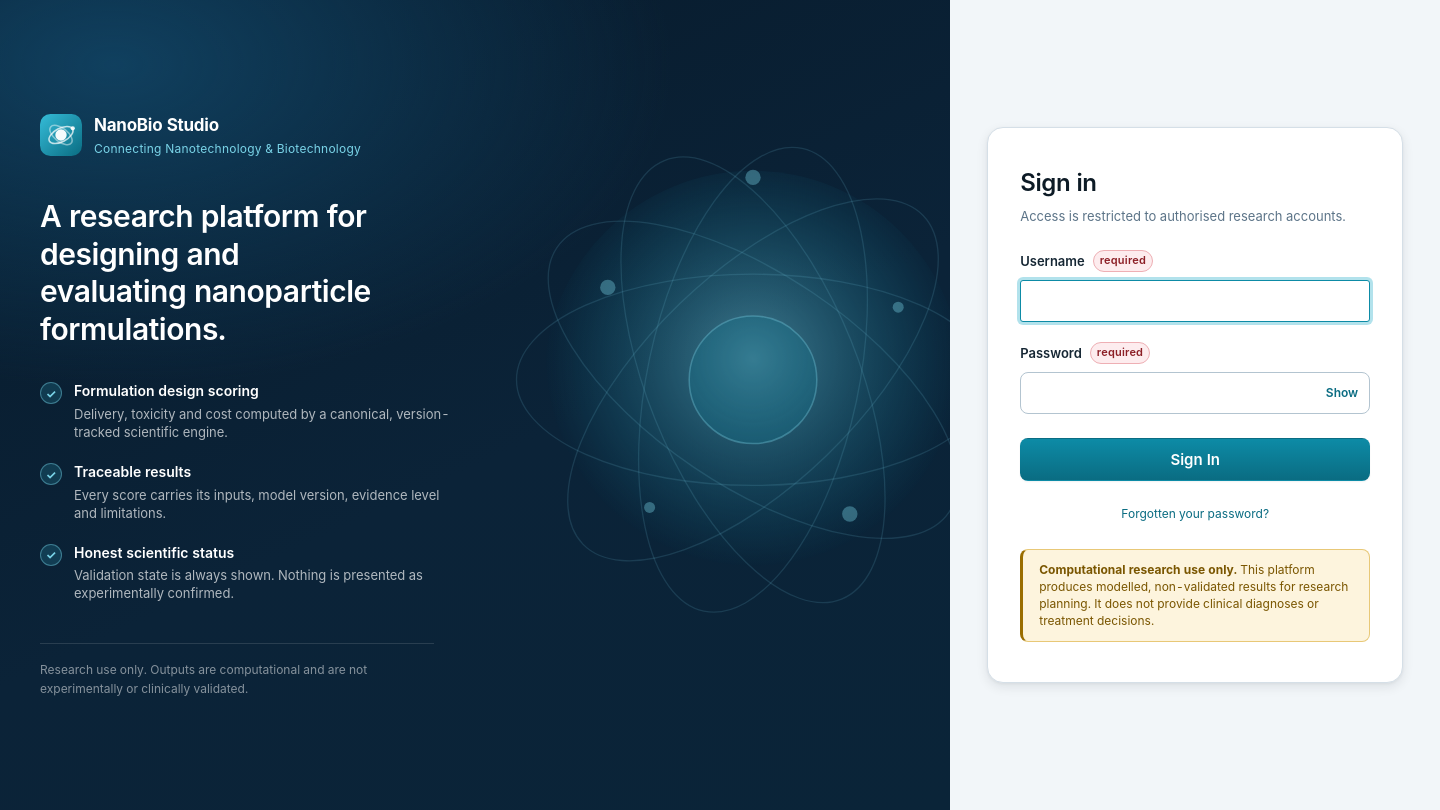
Test: login › surfaces rate limiting
This screenshot has width=1440, height=810.
Expected: the heading "Sign in" is shown, top-left (1020, 168), bottom-right (1097, 196)
Type "admin" into the field labelled "Username". click: (1195, 301)
box: top-left (1020, 280), bottom-right (1370, 322)
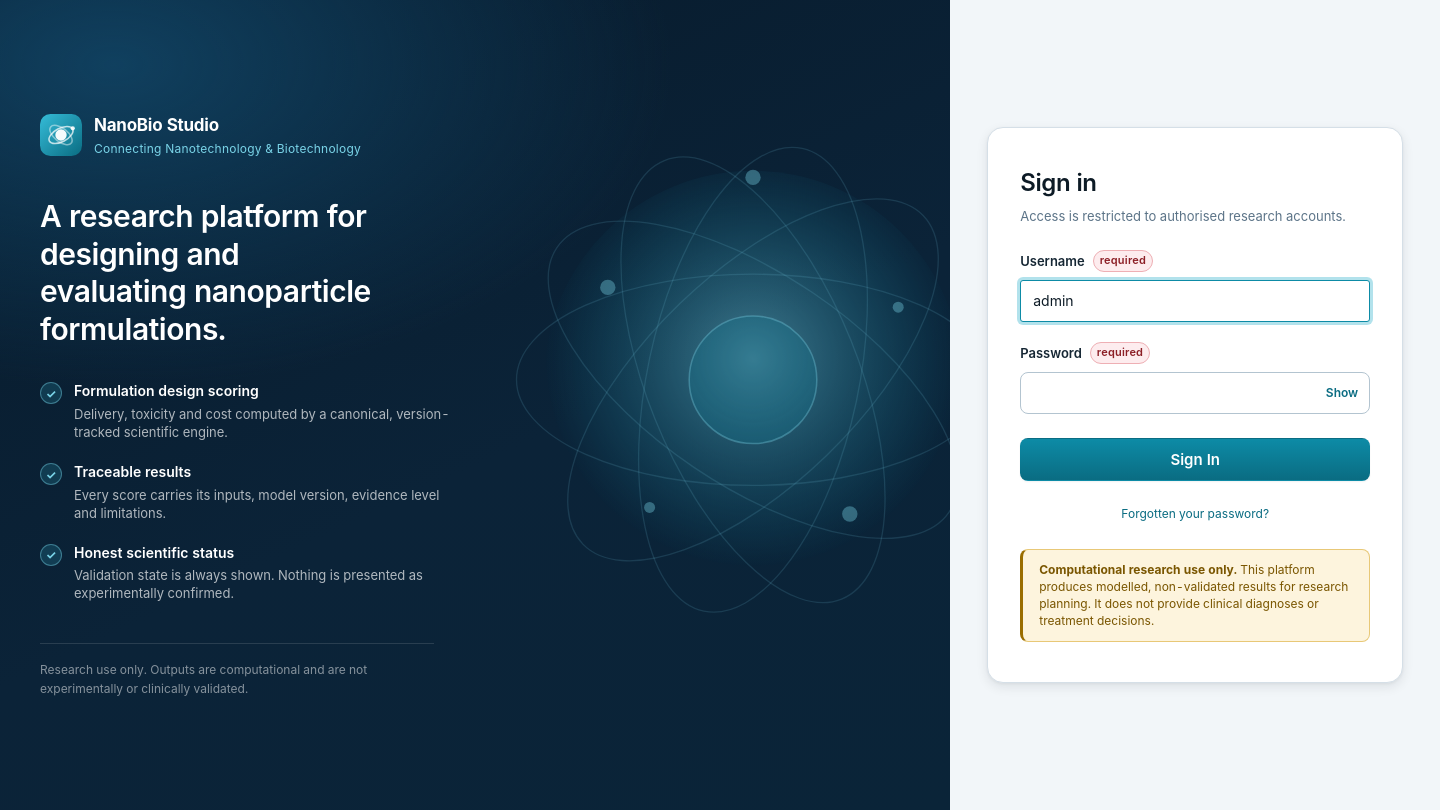
Type "x" into the password field labelled "Password". click: (1195, 393)
box: top-left (1020, 372), bottom-right (1370, 414)
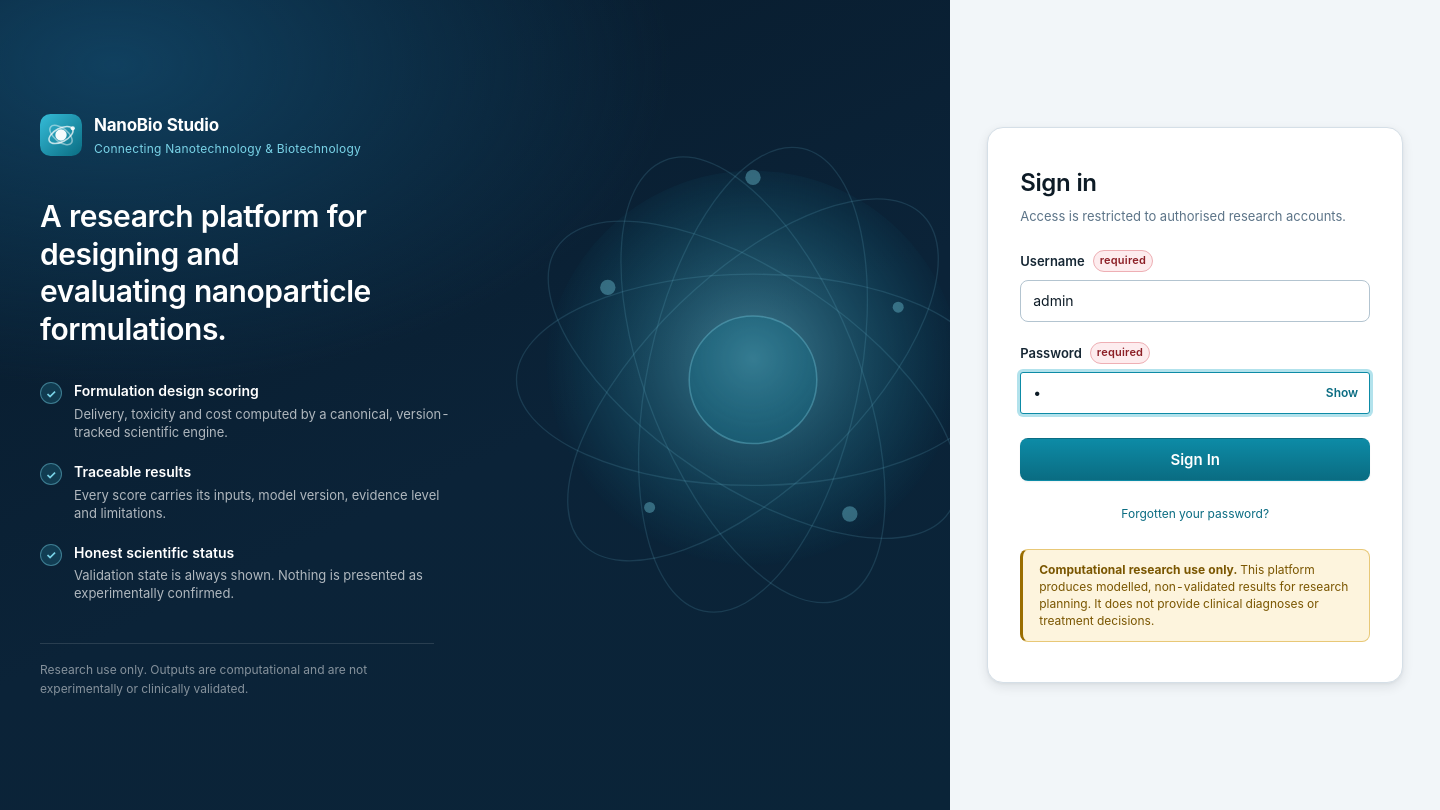
Click the button "Sign In". click: (1195, 460)
box: top-left (1020, 438), bottom-right (1370, 481)
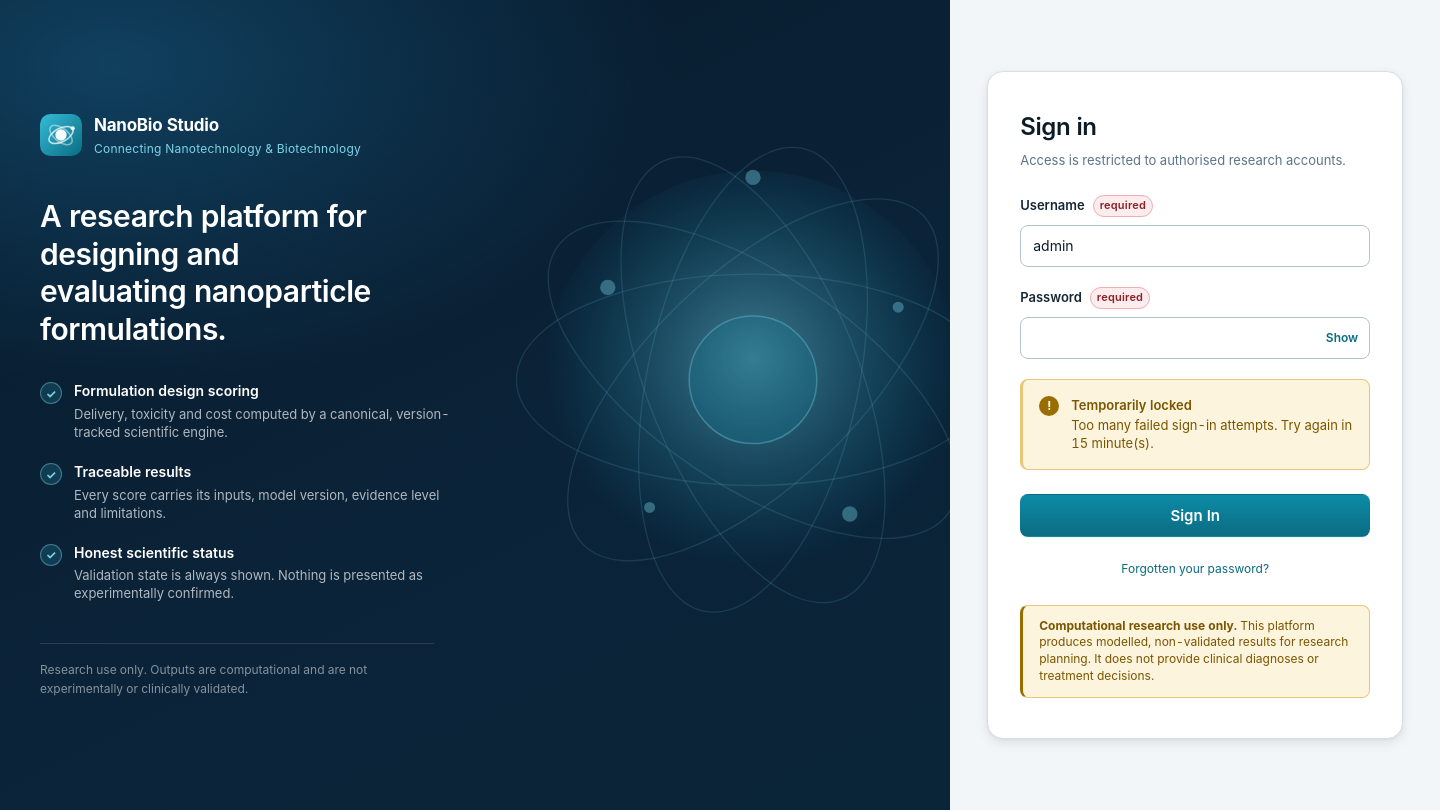
Result: the element with test id "auth-error" shows "Too many failed" at top-left (1071, 417), bottom-right (1352, 451)
Result: the text "Temporarily locked" is shown at top-left (1071, 397), bottom-right (1192, 413)
